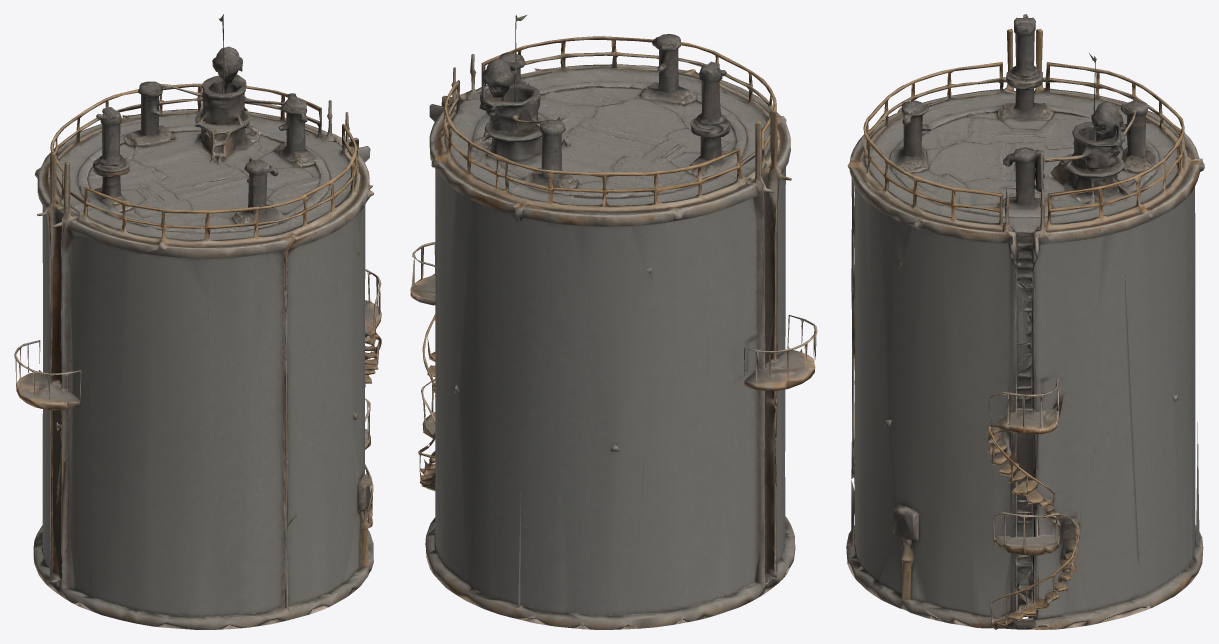
The model's file is storage_tank.glb.
3 renders of one model, left to right at view 1: azimuth 30°, elevation 25°; view 2: azimuth 150°, elevation 25°; view 3: azimuth 270°, elevation 25°, orthographic. The views are drawn at different scales.
Bounding box in the file's own units: 1.39 × 1.88 × 1.16.
1 material, 1 textured.
